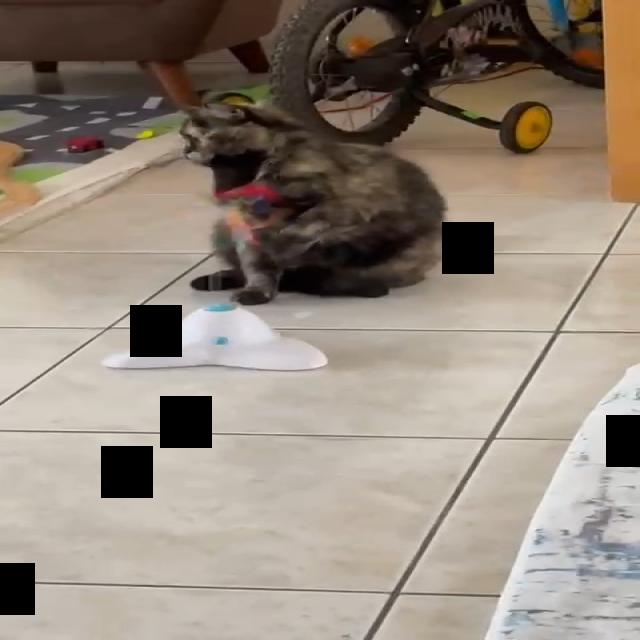authorized: (178, 93, 470, 305)
